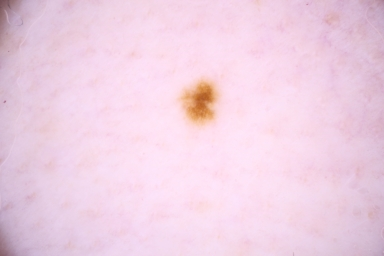nevus: (179, 84, 218, 121)
